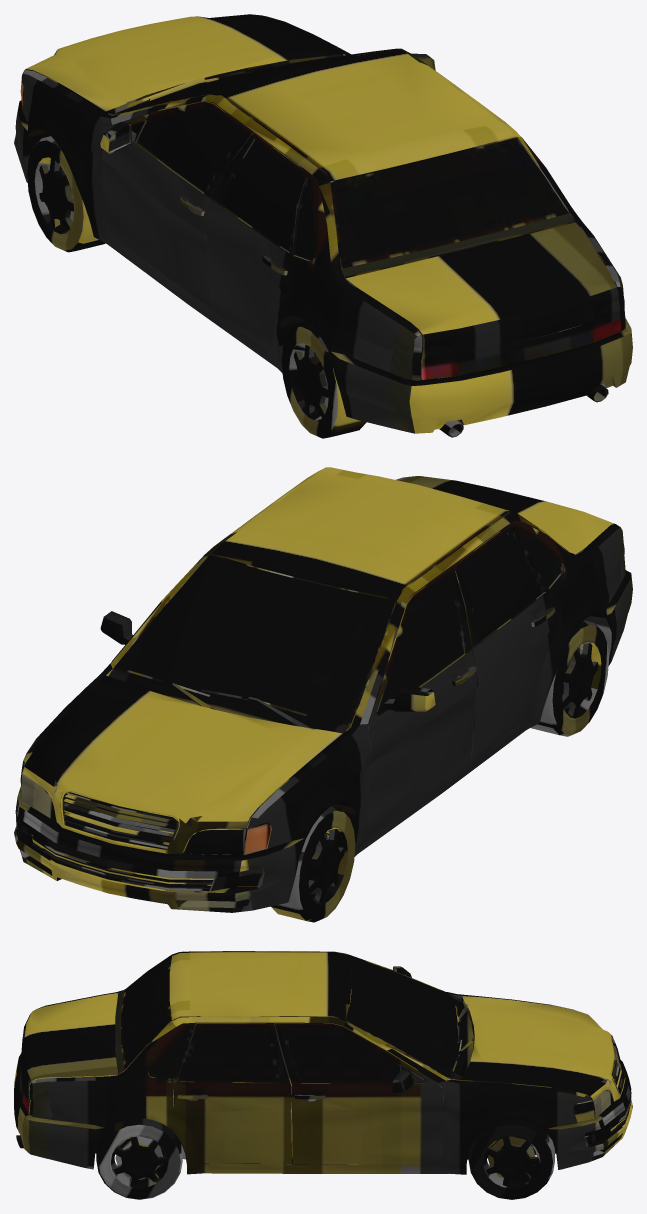
File: sedan.glb
3 views of the same model, one above another, from view 1: azimuth 30°, elevation 25°; view 2: azimuth 150°, elevation 25°; view 3: azimuth 270°, elevation 25° (orthographic). The views are drawn at different scales.
Visible parts, largest first — view 1: lod0; view 2: lod0; view 3: lod0.
Part boxes in pixels (x1,y1,x2,y2): lod0: (14,14,632,438); lod0: (14,467,632,922); lod0: (14,951,632,1199).
Size of what is drawn, in the model's own units: 2.05 by 1.42 by 4.6.
1 material, 1 textured.
